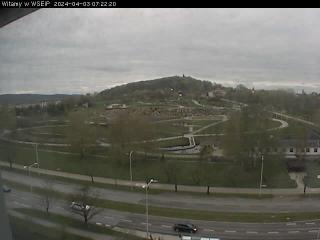car: (173, 220, 199, 234), (70, 200, 91, 211), (0, 185, 12, 194)
